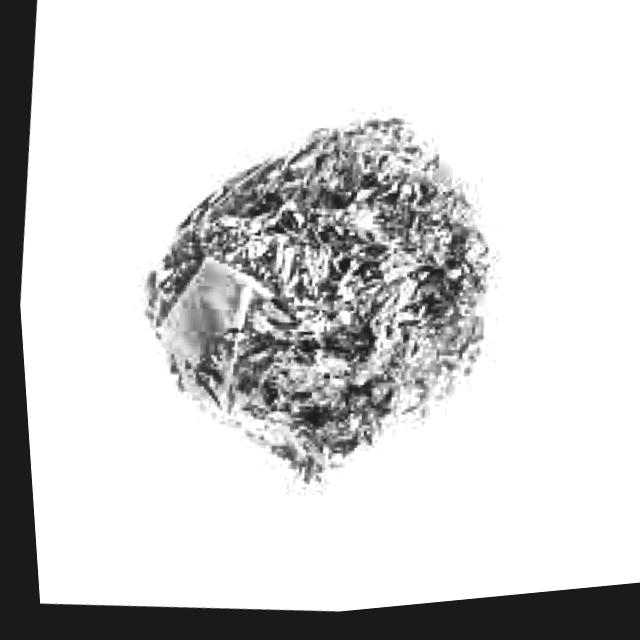Foil: (85, 69, 555, 547)
